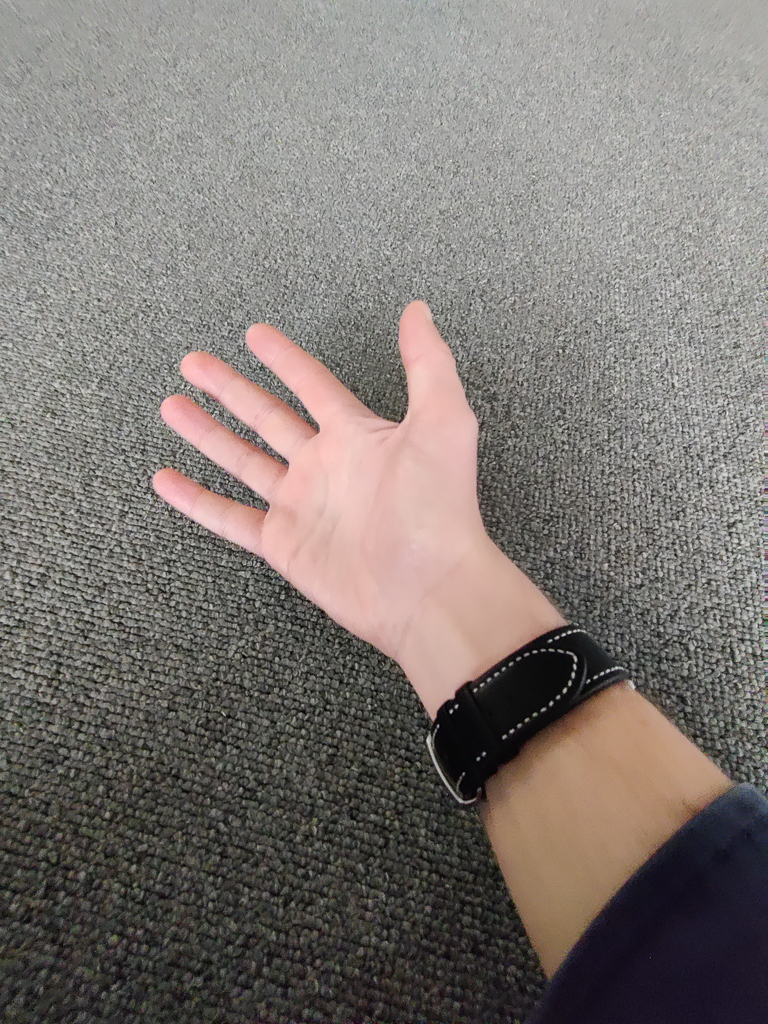Humanoid: (145, 287, 768, 1024)
